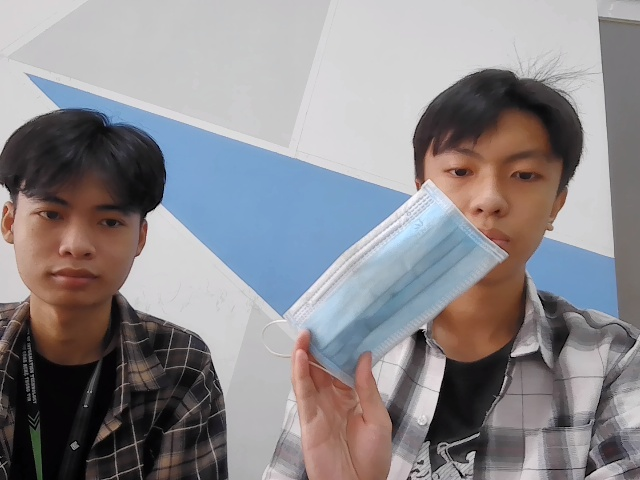human: (415, 61, 579, 293), (2, 96, 178, 309)
mask: (284, 181, 518, 378)
